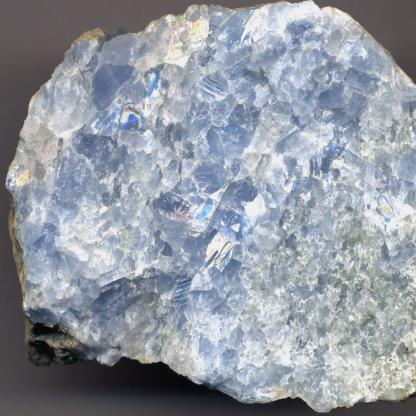Metamorphic_Marble: (3, 0, 416, 415)
